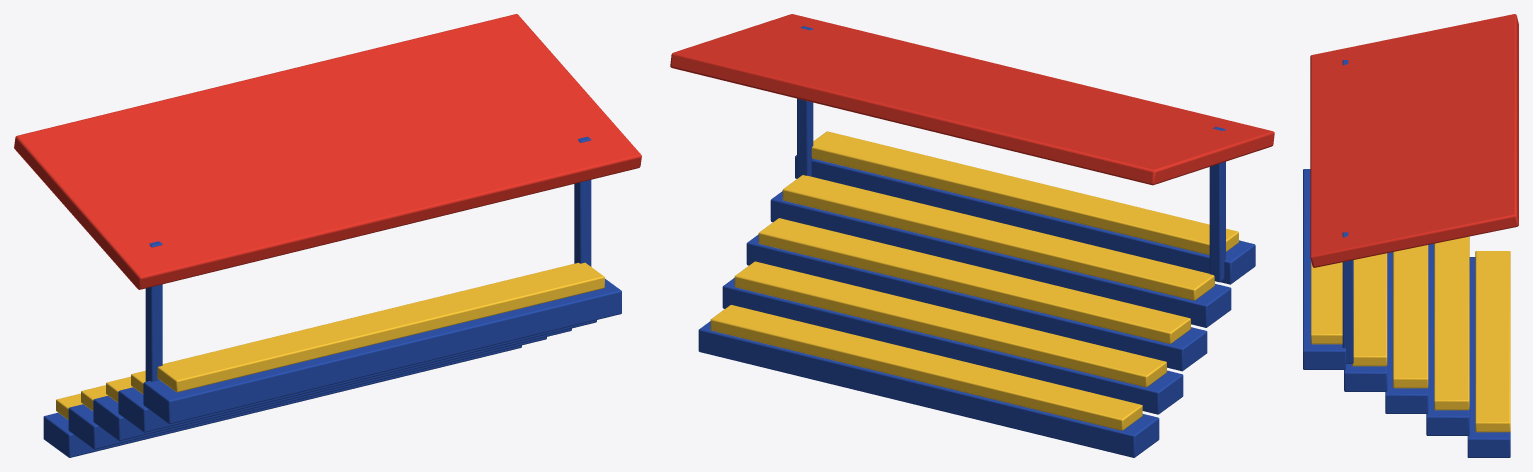
The model's file is grandstand.glb.
The picture shows the model from 3 angles, left to right: view 1: azimuth 30°, elevation 25°; view 2: azimuth 150°, elevation 25°; view 3: azimuth 270°, elevation 25°; orthographic projection. The views are drawn at different scales.
Visible parts, largest first — view 1: Roof, Step4, Seats4, Step0, Step1, Step2, Step3, RoofPost, RoofPost.001; view 2: Roof, Seats1, Seats0, Seats2, Seats3, Seats4, Step0, Step1, Step3, Step2, Step4, RoofPost (+1 smaller); view 3: Roof, Seats0, Seats1, Seats2, Seats3, Seats4, Step4, Step0, Step1, Step2, RoofPost.001, Step3.
Part boxes in pixels (<box>): Roof: <box>14,14,641,289</box>; Step4: <box>143,279,621,423</box>; Seats4: <box>157,262,604,392</box>; Step0: <box>43,345,521,457</box>; Step1: <box>68,337,546,449</box>; Step2: <box>93,328,571,440</box>; Step3: <box>118,320,596,432</box>; RoofPost: <box>145,241,162,381</box>; RoofPost.001: <box>574,136,591,266</box>; Roof: <box>670,14,1274,185</box>; Seats1: <box>734,261,1166,387</box>; Seats0: <box>710,305,1142,430</box>; Seats2: <box>758,218,1190,343</box>; Seats3: <box>782,175,1214,300</box>; Seats4: <box>811,131,1238,255</box>; Step0: <box>698,321,1159,457</box>; Step1: <box>722,278,1183,414</box>; Step3: <box>770,191,1231,327</box>; Step2: <box>746,234,1207,371</box>; Step4: <box>795,155,1255,284</box>; RoofPost: <box>1209,127,1225,282</box>; Roof: <box>1310,14,1518,267</box>; Seats0: <box>1475,251,1510,432</box>; Seats1: <box>1434,236,1469,410</box>; Seats2: <box>1393,245,1428,388</box>; Seats3: <box>1352,253,1387,366</box>; Seats4: <box>1311,261,1342,344</box>; Step4: <box>1303,169,1345,369</box>; Step0: <box>1467,257,1510,457</box>; Step1: <box>1426,244,1469,435</box>; Step2: <box>1385,252,1428,413</box>; RoofPost.001: <box>1342,232,1353,363</box>; Step3: <box>1344,364,1387,391</box>.
Size of the model in its own units: 12.2 by 7.12 by 5.51.
